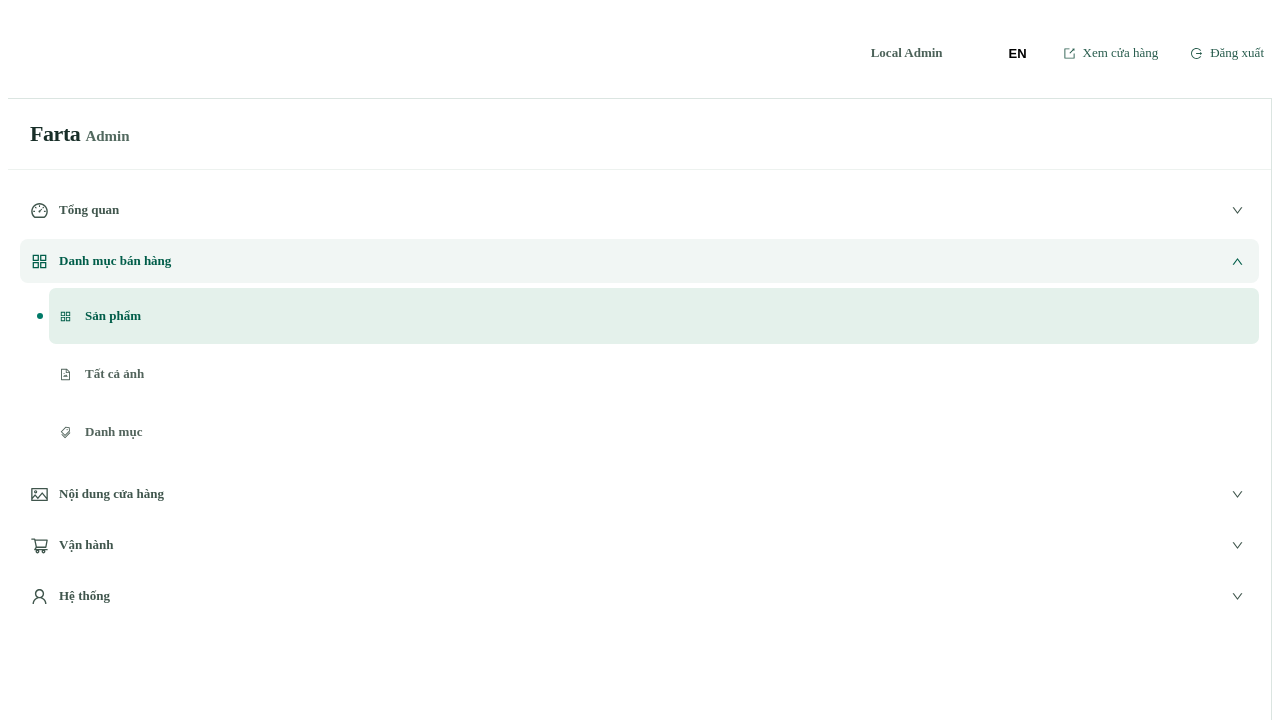
Test case: Admin grouped navigation › shows the system group only to admins
This screenshot has width=1280, height=720.
Click the button "Hệ thống" at (84, 596), box [20,574,1259,618]
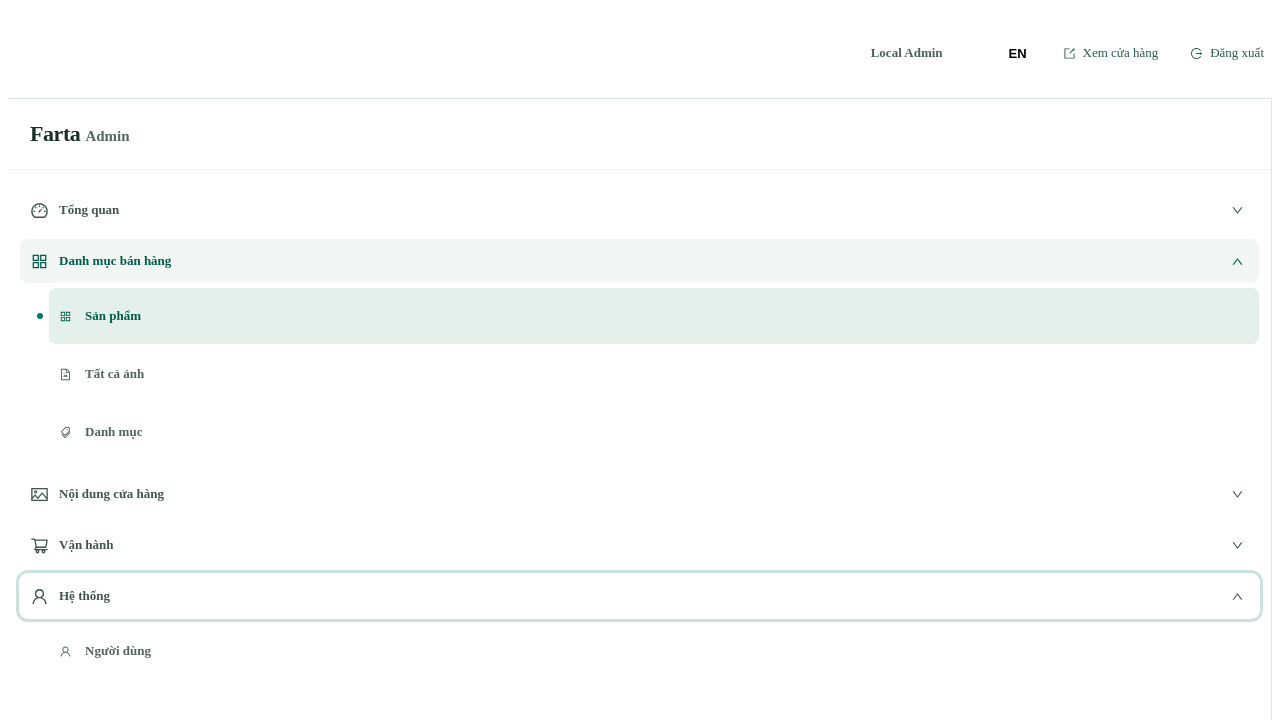
expect the link "Người dùng" is shown: met, box [59,643,151,658]
